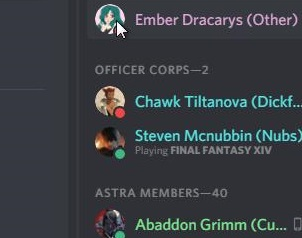cursor: (113, 17, 129, 41)
